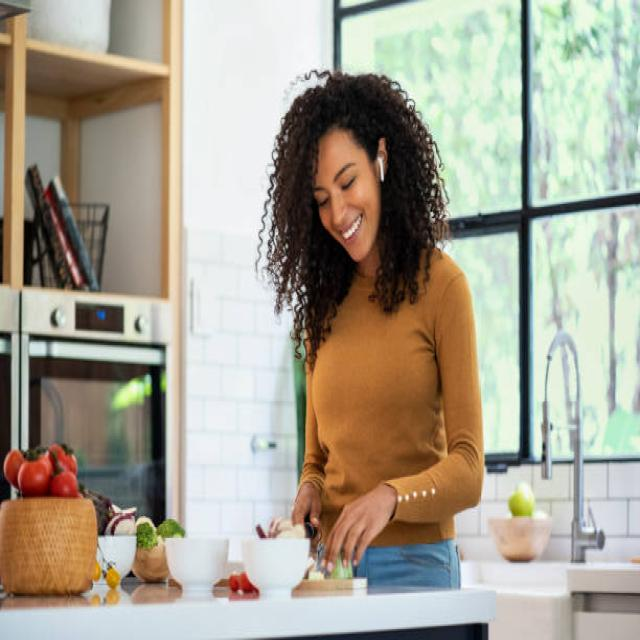airpods: (377, 154, 384, 181)
